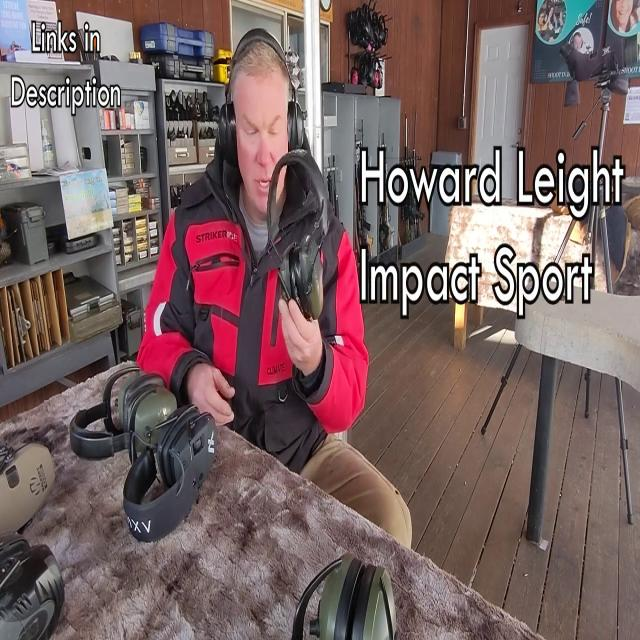earmuff: (296, 233, 334, 327), (216, 96, 242, 173), (276, 238, 300, 310), (285, 99, 307, 161)
